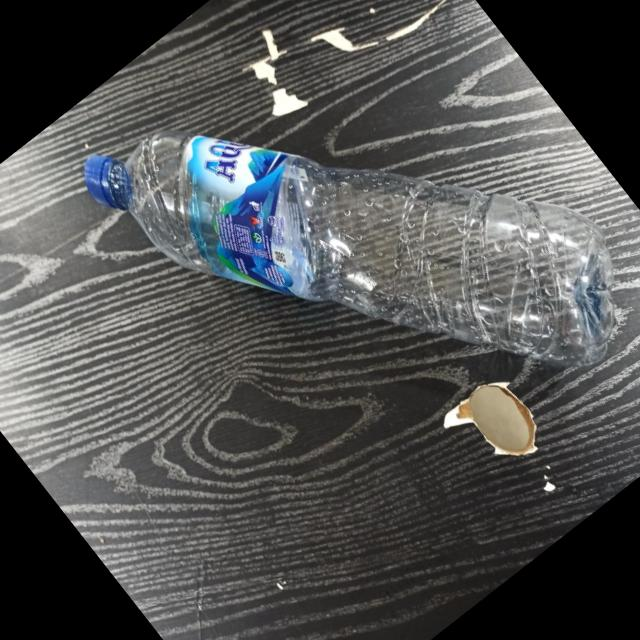BotolPlastik: (70, 0, 640, 545)
